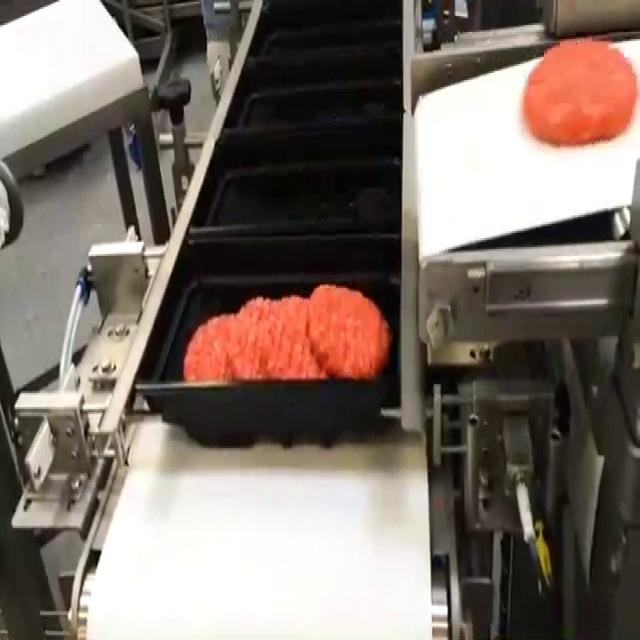4-hamburguer: (183, 286, 389, 377)
